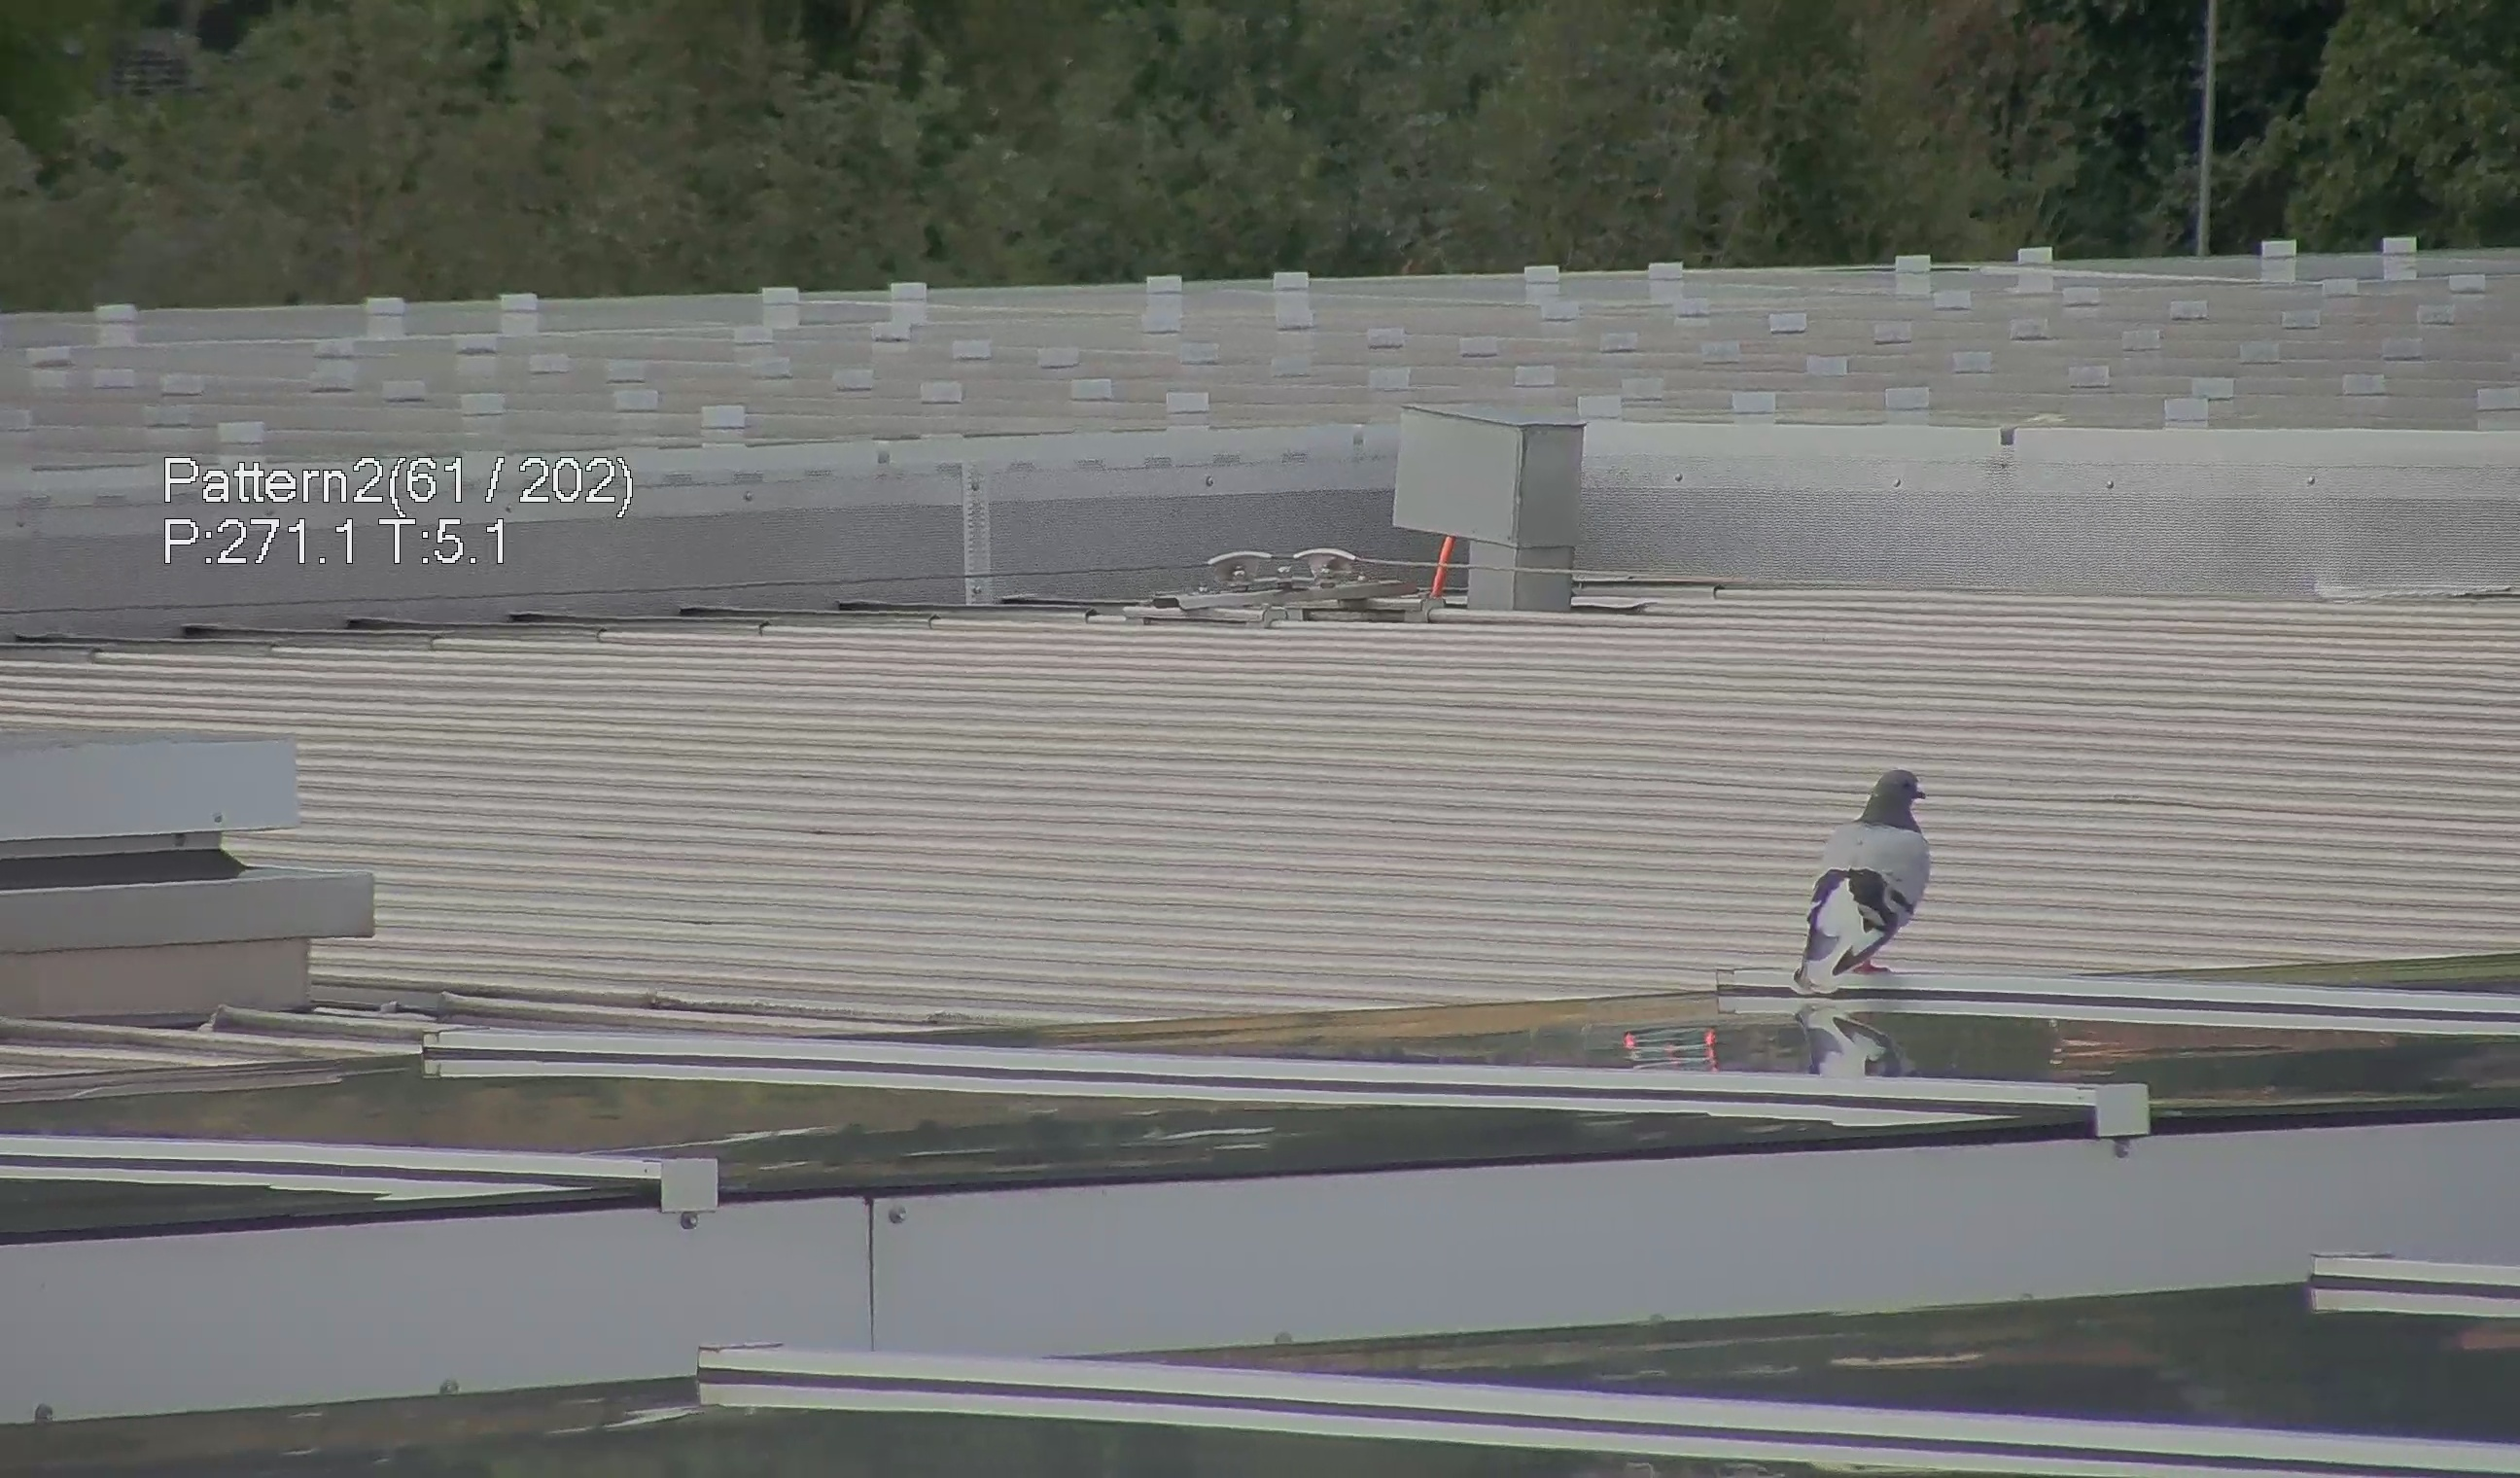Pigeon: (1806, 758, 1952, 987)
